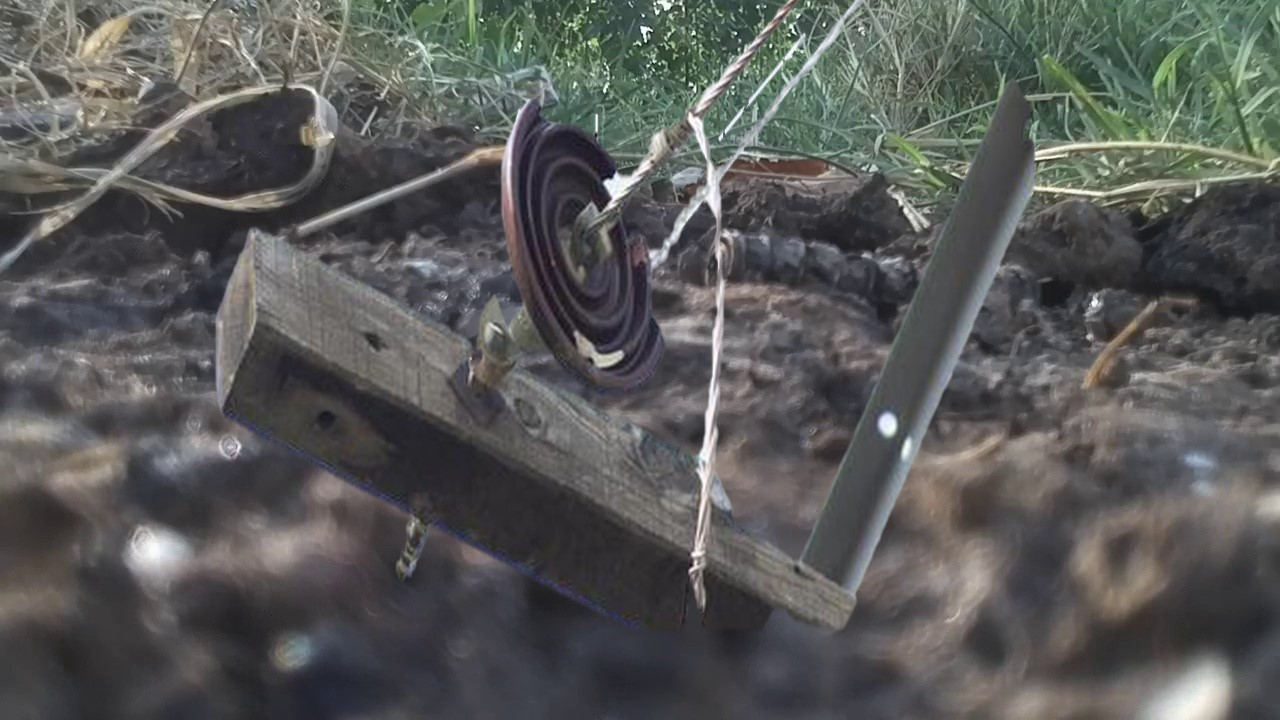defect_disc: (493, 87, 674, 399)
